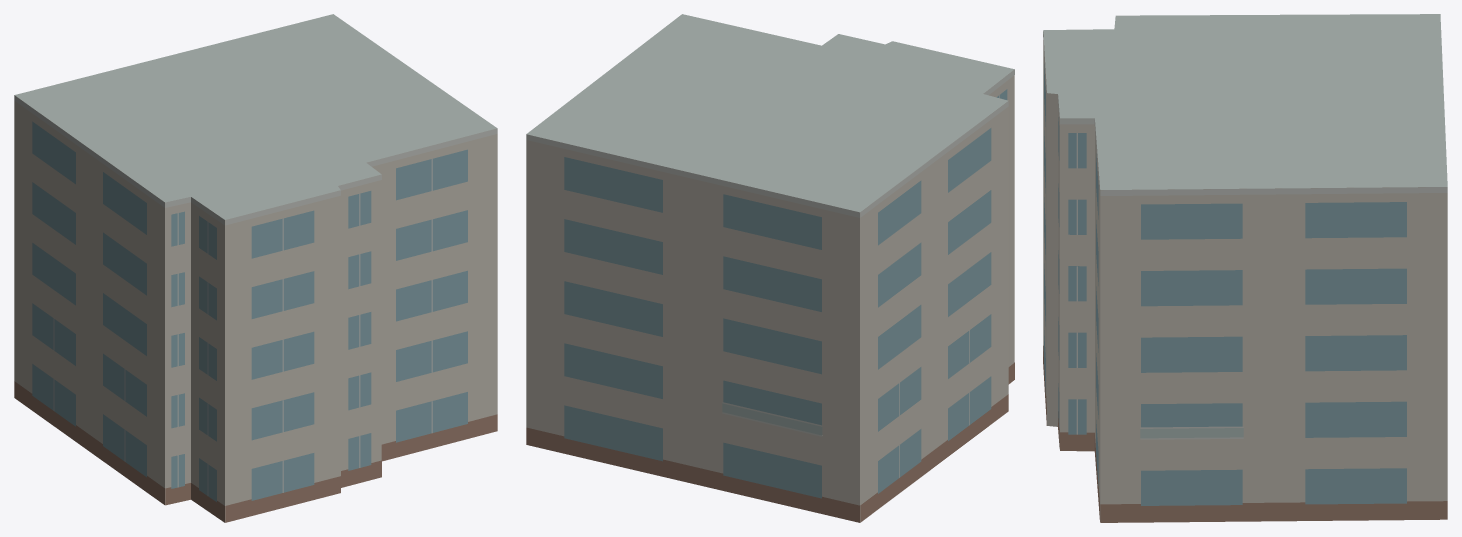
Rendered from survey-upis-32603253.glb.
3 renders of one model, left to right at view 1: azimuth 30°, elevation 25°; view 2: azimuth 150°, elevation 25°; view 3: azimuth 270°, elevation 25°, orthographic. The views are drawn at different scales.
Visible parts, largest first — view 1: survey-upis-32603253.tmp; view 2: survey-upis-32603253.tmp; view 3: survey-upis-32603253.tmp.
Boxes of the visible parts, x1,y1,x2,y2 form: survey-upis-32603253.tmp: (14, 14, 497, 522); survey-upis-32603253.tmp: (526, 14, 1014, 522); survey-upis-32603253.tmp: (1043, 14, 1447, 522).
Size of the model in its own units: 15.27 by 13.45 by 14.83.
